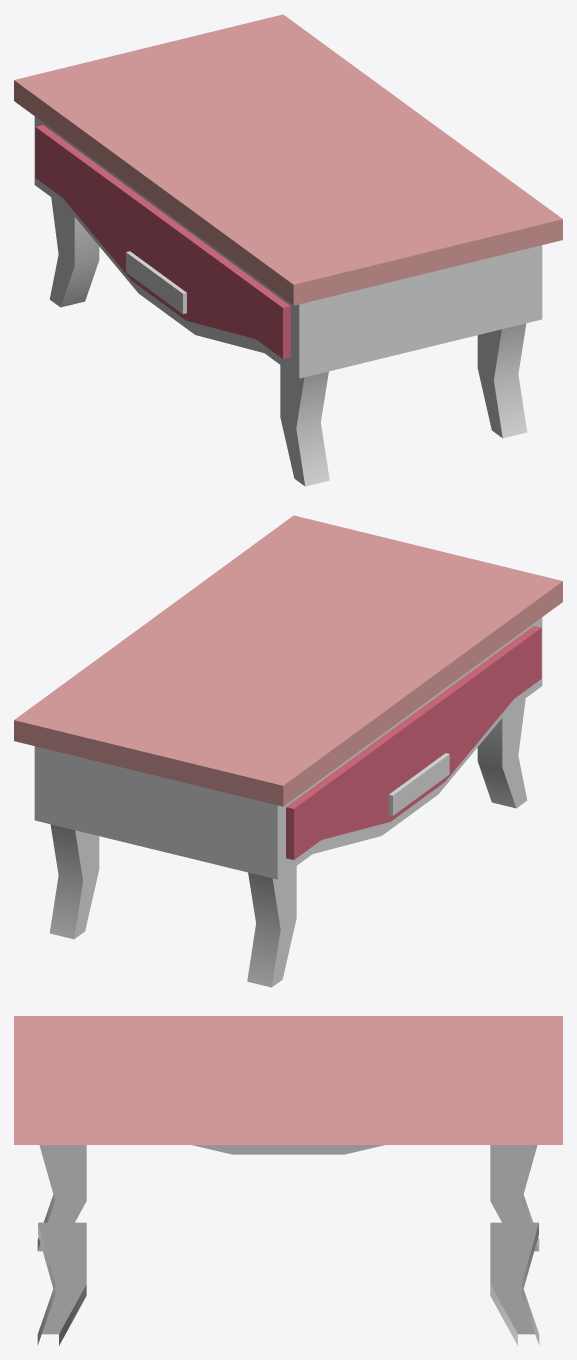
The model's file is interior_C_008.fbx.
3 renders of one model, top to bottom at view 1: azimuth 30°, elevation 25°; view 2: azimuth 150°, elevation 25°; view 3: azimuth 270°, elevation 25°, orthographic.
Visible parts, largest first — view 1: interior_C_008; view 2: interior_C_008; view 3: interior_C_008.
Boxes of the visible parts, x1,y1,x2,y2 form: interior_C_008: (14,14,562,486); interior_C_008: (14,515,562,987); interior_C_008: (14,1016,562,1345).
Bounding box in the file's own units: 48.04 × 36.89 × 86.45.
